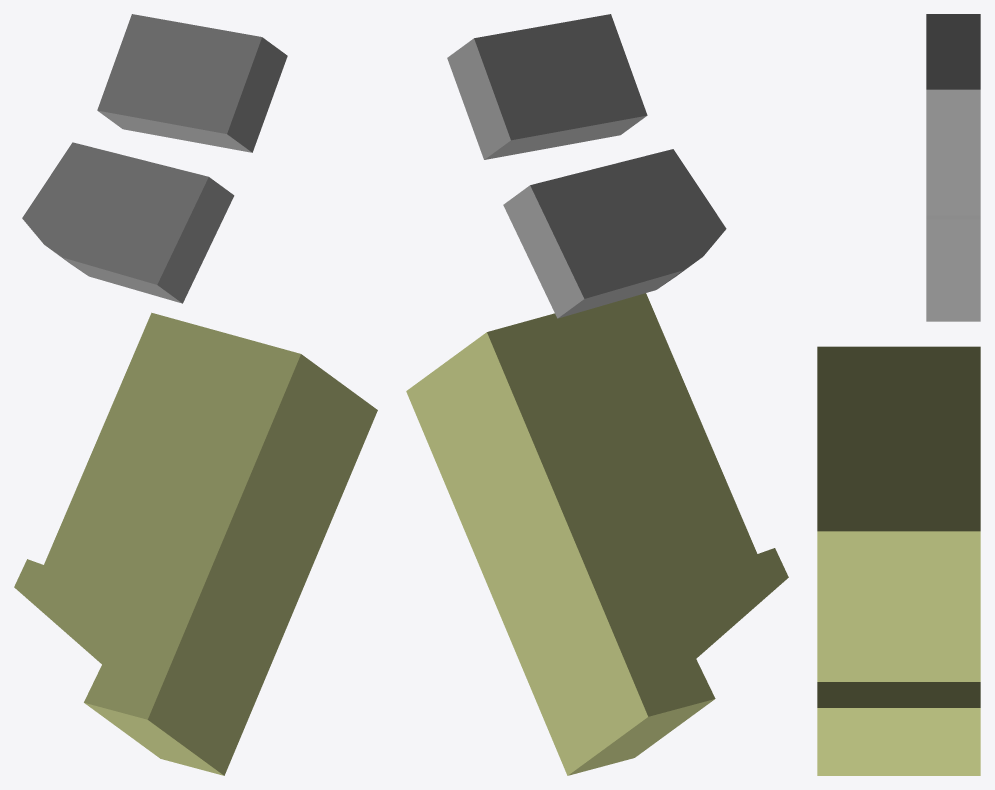
3 views of the same model, side by side, from view 1: azimuth 30°, elevation 25°; view 2: azimuth 150°, elevation 25°; view 3: azimuth 270°, elevation 25° (orthographic). The views are drawn at different scales.
Parts seen in each view (by area): view 1: 0_1_0_0_2_1_0_3_0; view 2: 0_1_0_0_2_1_0_3_0; view 3: 0_1_0_0_2_1_0_3_0.
Part boxes in pixels (<box>): 0_1_0_0_2_1_0_3_0: <box>14,14,377,775</box>; 0_1_0_0_2_1_0_3_0: <box>406,14,788,775</box>; 0_1_0_0_2_1_0_3_0: <box>817,14,980,775</box>.
Size of the model in its own units: 19.43 by 45.88 by 9.
